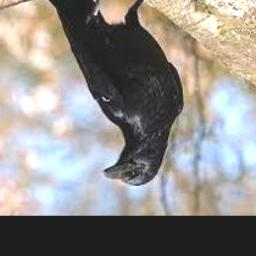Crow: (46, 0, 184, 186)
